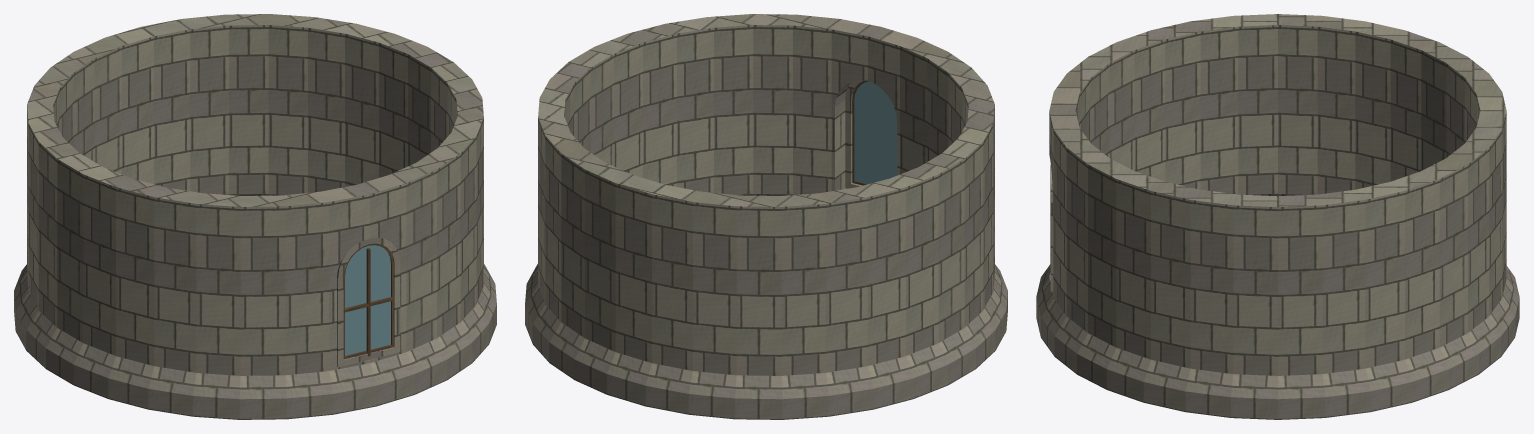
Rendered from Furn_Tower_Round_Base.fbx.
The picture shows the model from 3 angles, left to right: view 1: azimuth 30°, elevation 25°; view 2: azimuth 150°, elevation 25°; view 3: azimuth 270°, elevation 25°; orthographic projection.
Visible parts, largest first — view 1: Furn_Tower_Round_Base_Mesh; view 2: Furn_Tower_Round_Base_Mesh; view 3: Furn_Tower_Round_Base_Mesh.
Boxes of the visible parts, bbox=[...] form: Furn_Tower_Round_Base_Mesh: bbox=[14, 14, 496, 419]; Furn_Tower_Round_Base_Mesh: bbox=[525, 14, 1007, 419]; Furn_Tower_Round_Base_Mesh: bbox=[1036, 14, 1519, 419].
Size of the model in its own units: 7.4 by 3.5 by 7.4.
